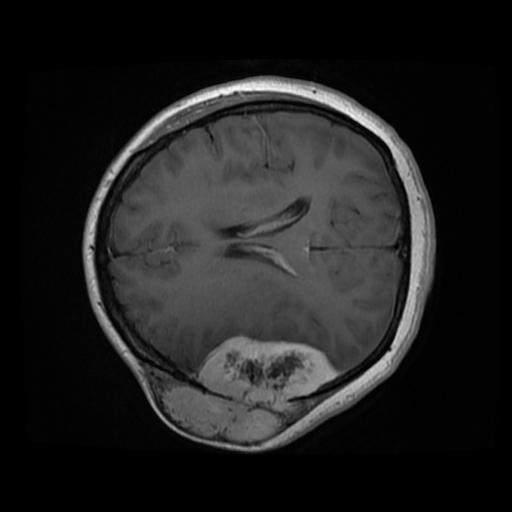meningioma: (161, 335, 336, 442)
